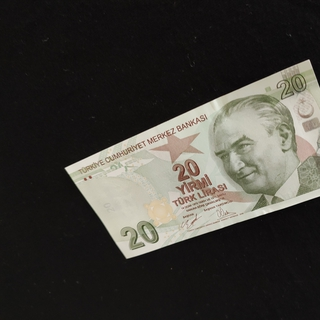20TLFront: (64, 58, 320, 259)
